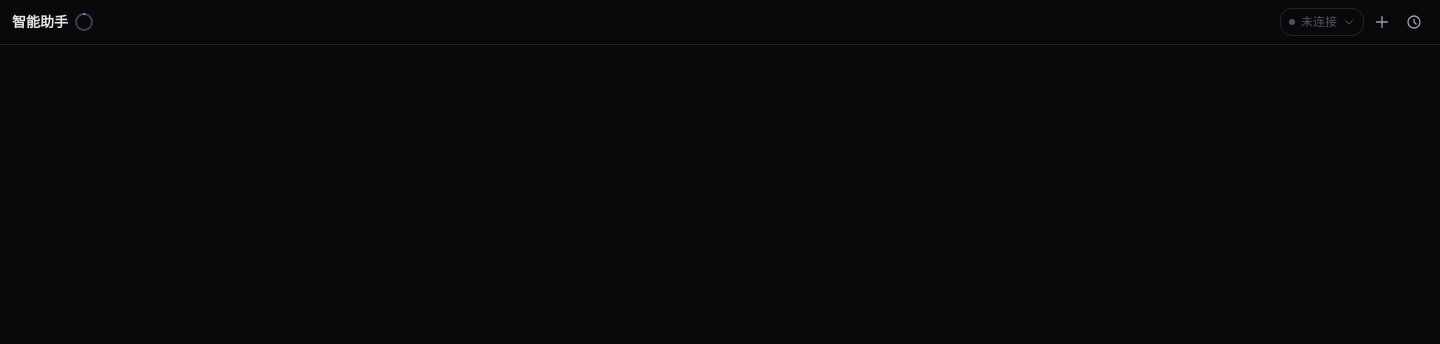
Test: AgentPanelHeader（原 AgentPanel 内联头部，行为不变） › 占用环按钮：点开 Token 用量浮层，显示用量面板
The width and height of the screenshot is (1440, 344).
What coordinates should you click on to do the following:
click the button named "Token 用量"
I would click on:
 (84, 22)
Its box is [74, 12, 94, 32].
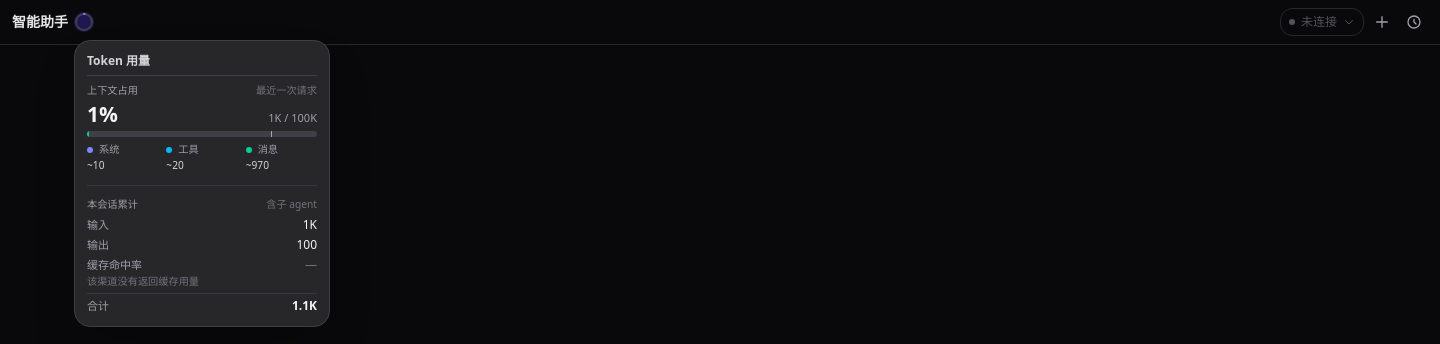
Check: the text "Token 用量" is shown, box [87, 53, 317, 76]
Check: the button named "Token 用量" is expanded, box [74, 12, 94, 32]
